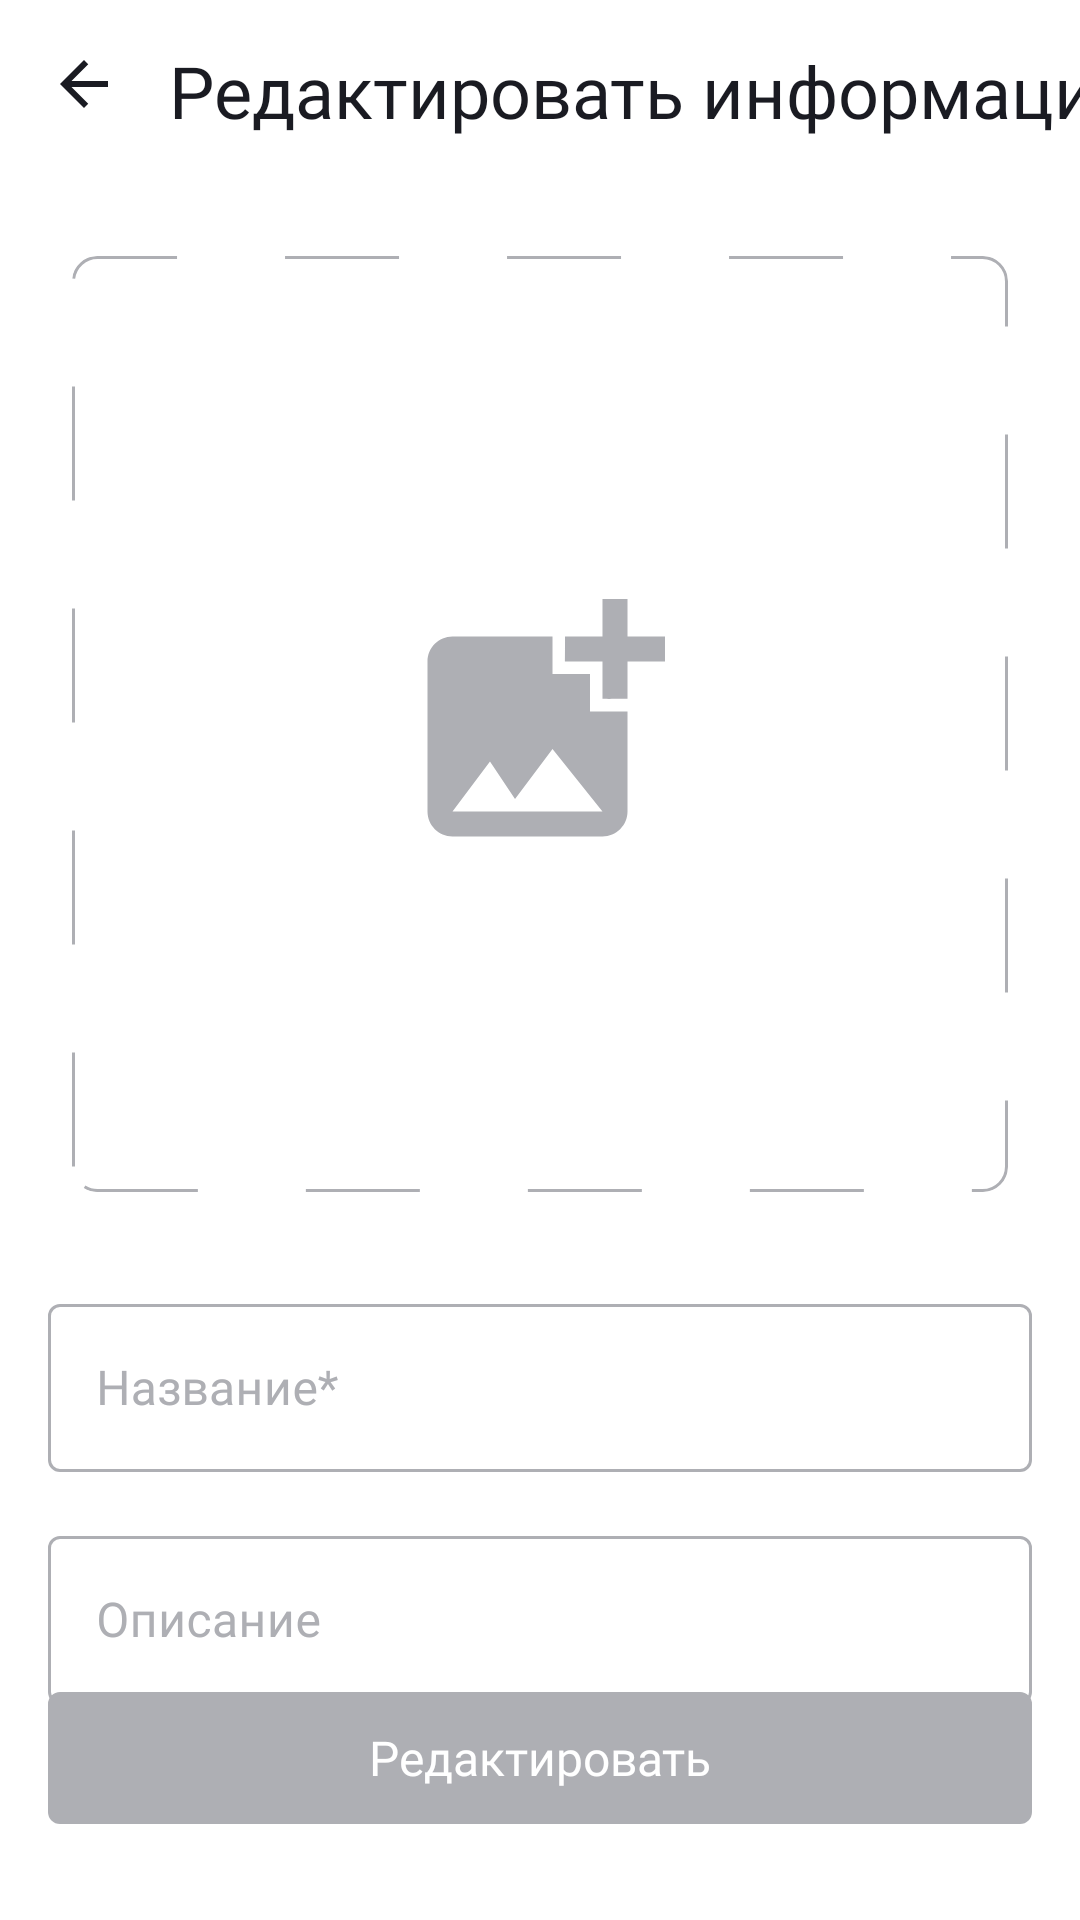

Screen size 1080w x 1920h. Icon name, then its box in pixels as (x1, y1, x2, y2):
back: (60, 60, 108, 108)
